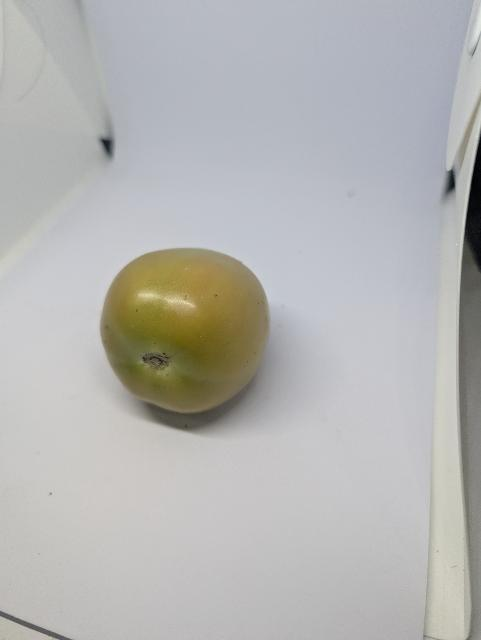breaker: (101, 248, 270, 413)
